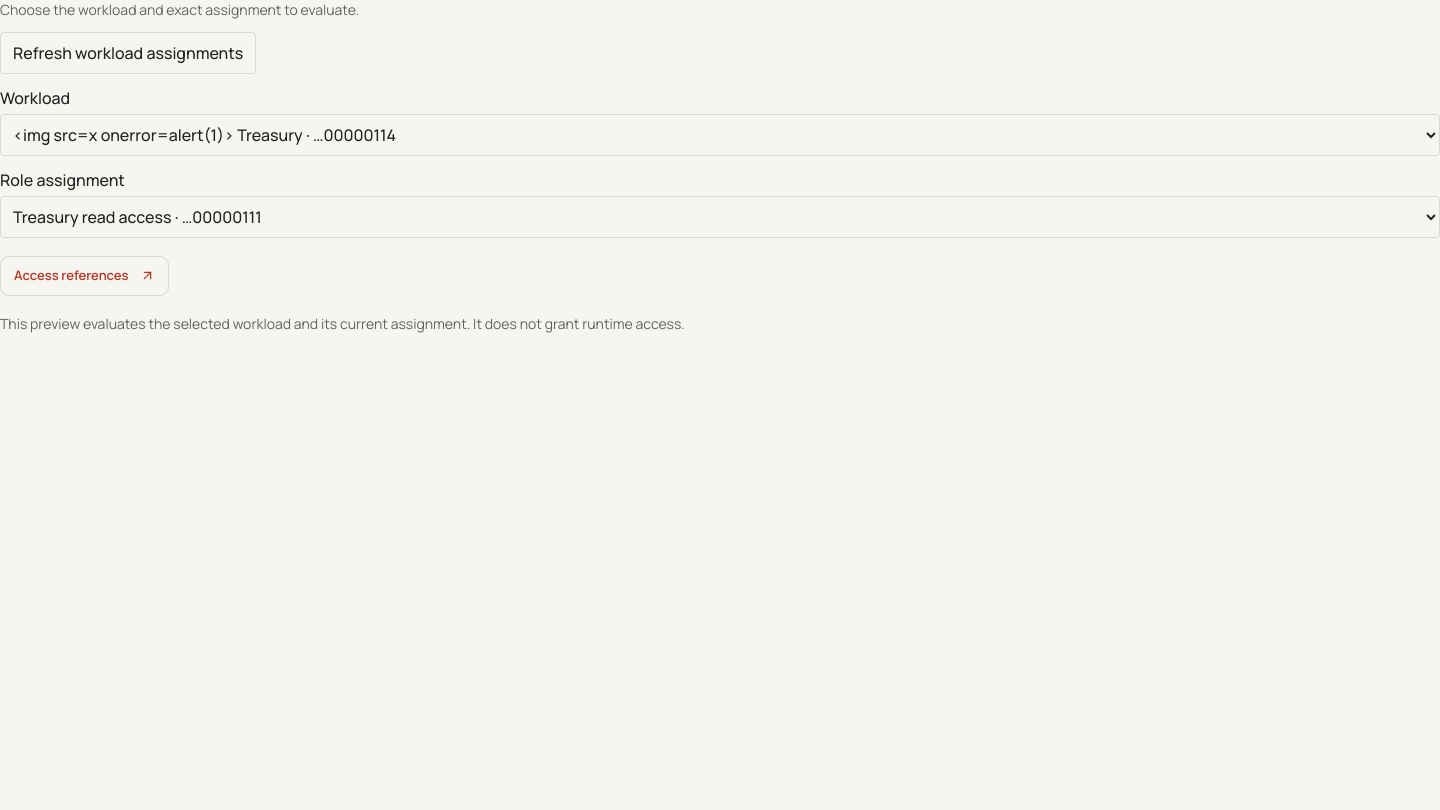
Test: uses display names as text and retains exact selected references
Click the button "Access references".
click(85, 276)  # box [0,256,170,296]
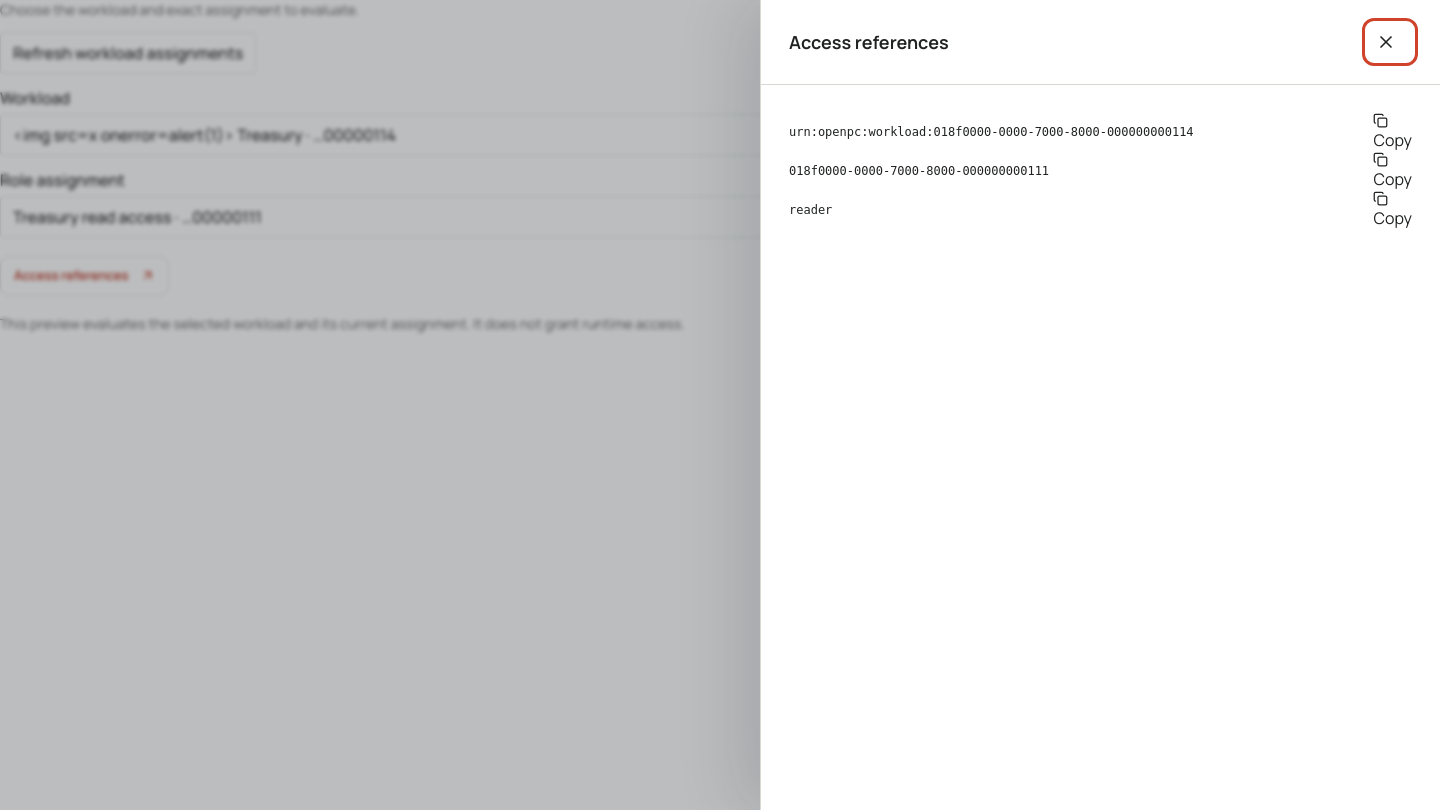
Expected: the dialog "Access references" shows "urn:openpc:workload:018f0000-0000-7000-8000-000000000114", [789,125,1194,139]
Expected: the dialog "Access references" shows "018f0000-0000-7000-8000-000000000111", [789,164,1049,178]
Expected: the dialog "Access references" shows "reader", [789,203,832,217]
